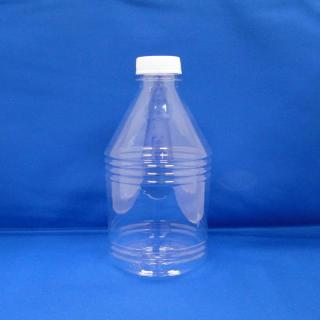Plastic-bottle: (103, 55, 215, 283)
